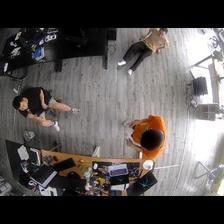fall: (116, 28, 171, 78)
normal: (12, 85, 77, 133), (120, 113, 171, 159)
